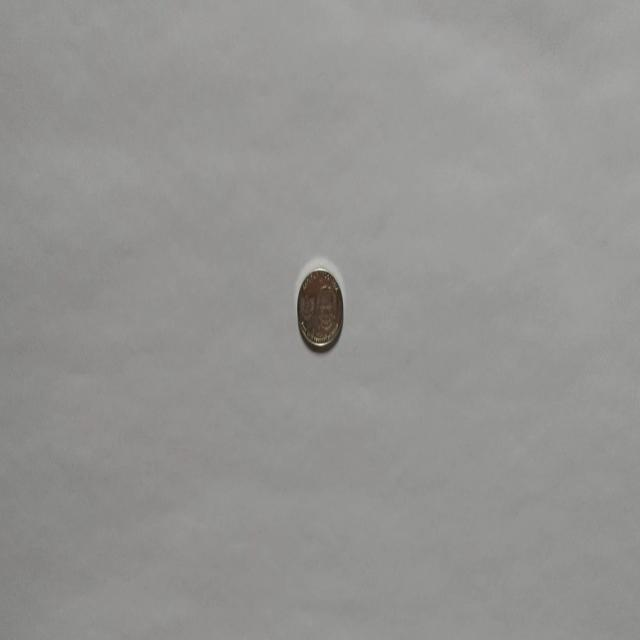seratus rupiah: (296, 266, 344, 352)
